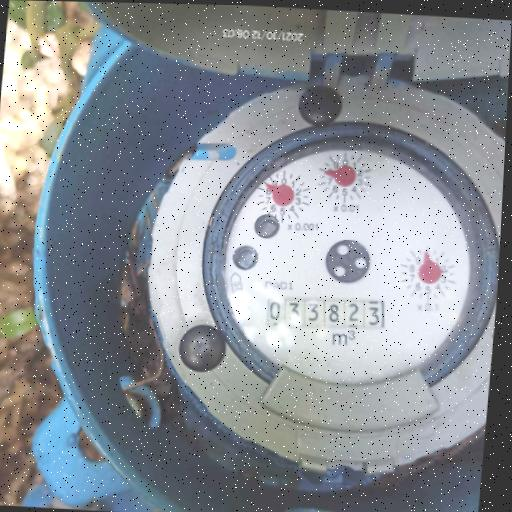0: (266, 299, 287, 327)
2: (343, 301, 366, 328)
3: (282, 300, 305, 328), (304, 298, 325, 326), (362, 301, 383, 327)
8: (322, 300, 345, 327)
border_water_meter_number: (263, 292, 389, 335)
